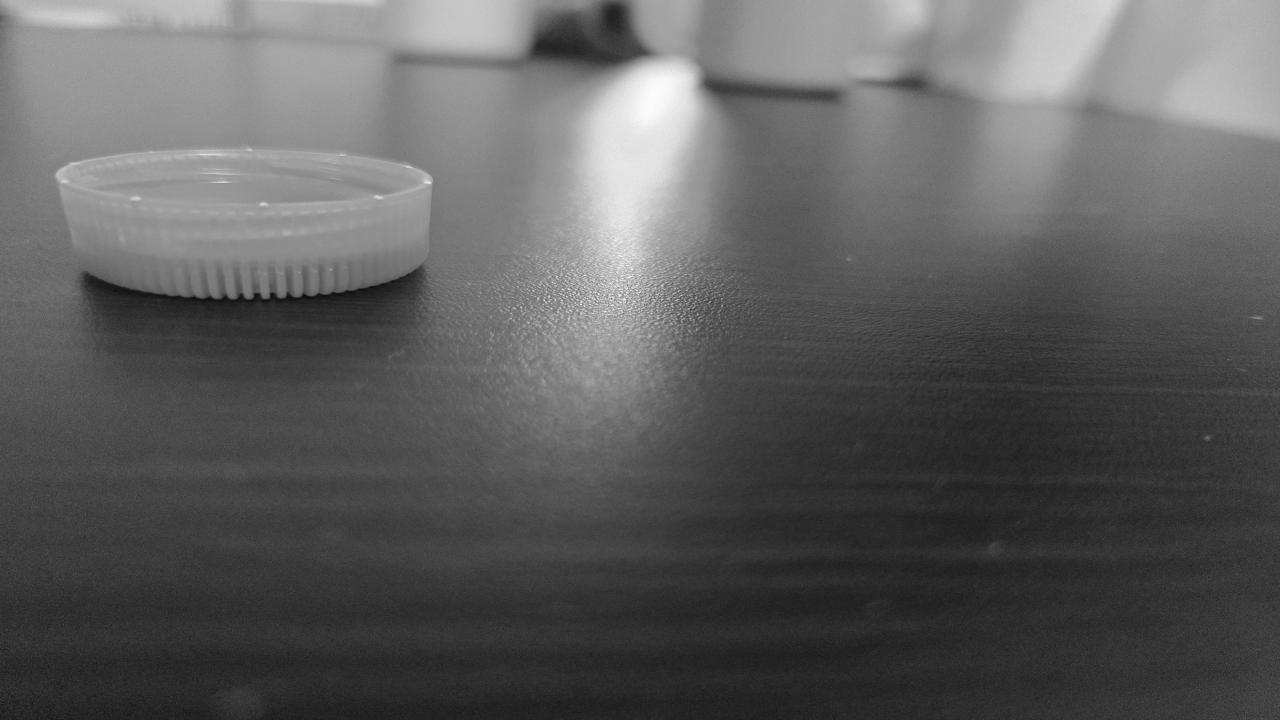bottle_cap: (62, 150, 432, 296)
